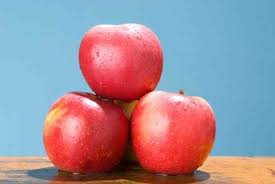apple: (132, 88, 217, 173), (80, 22, 165, 99), (44, 95, 129, 169)
